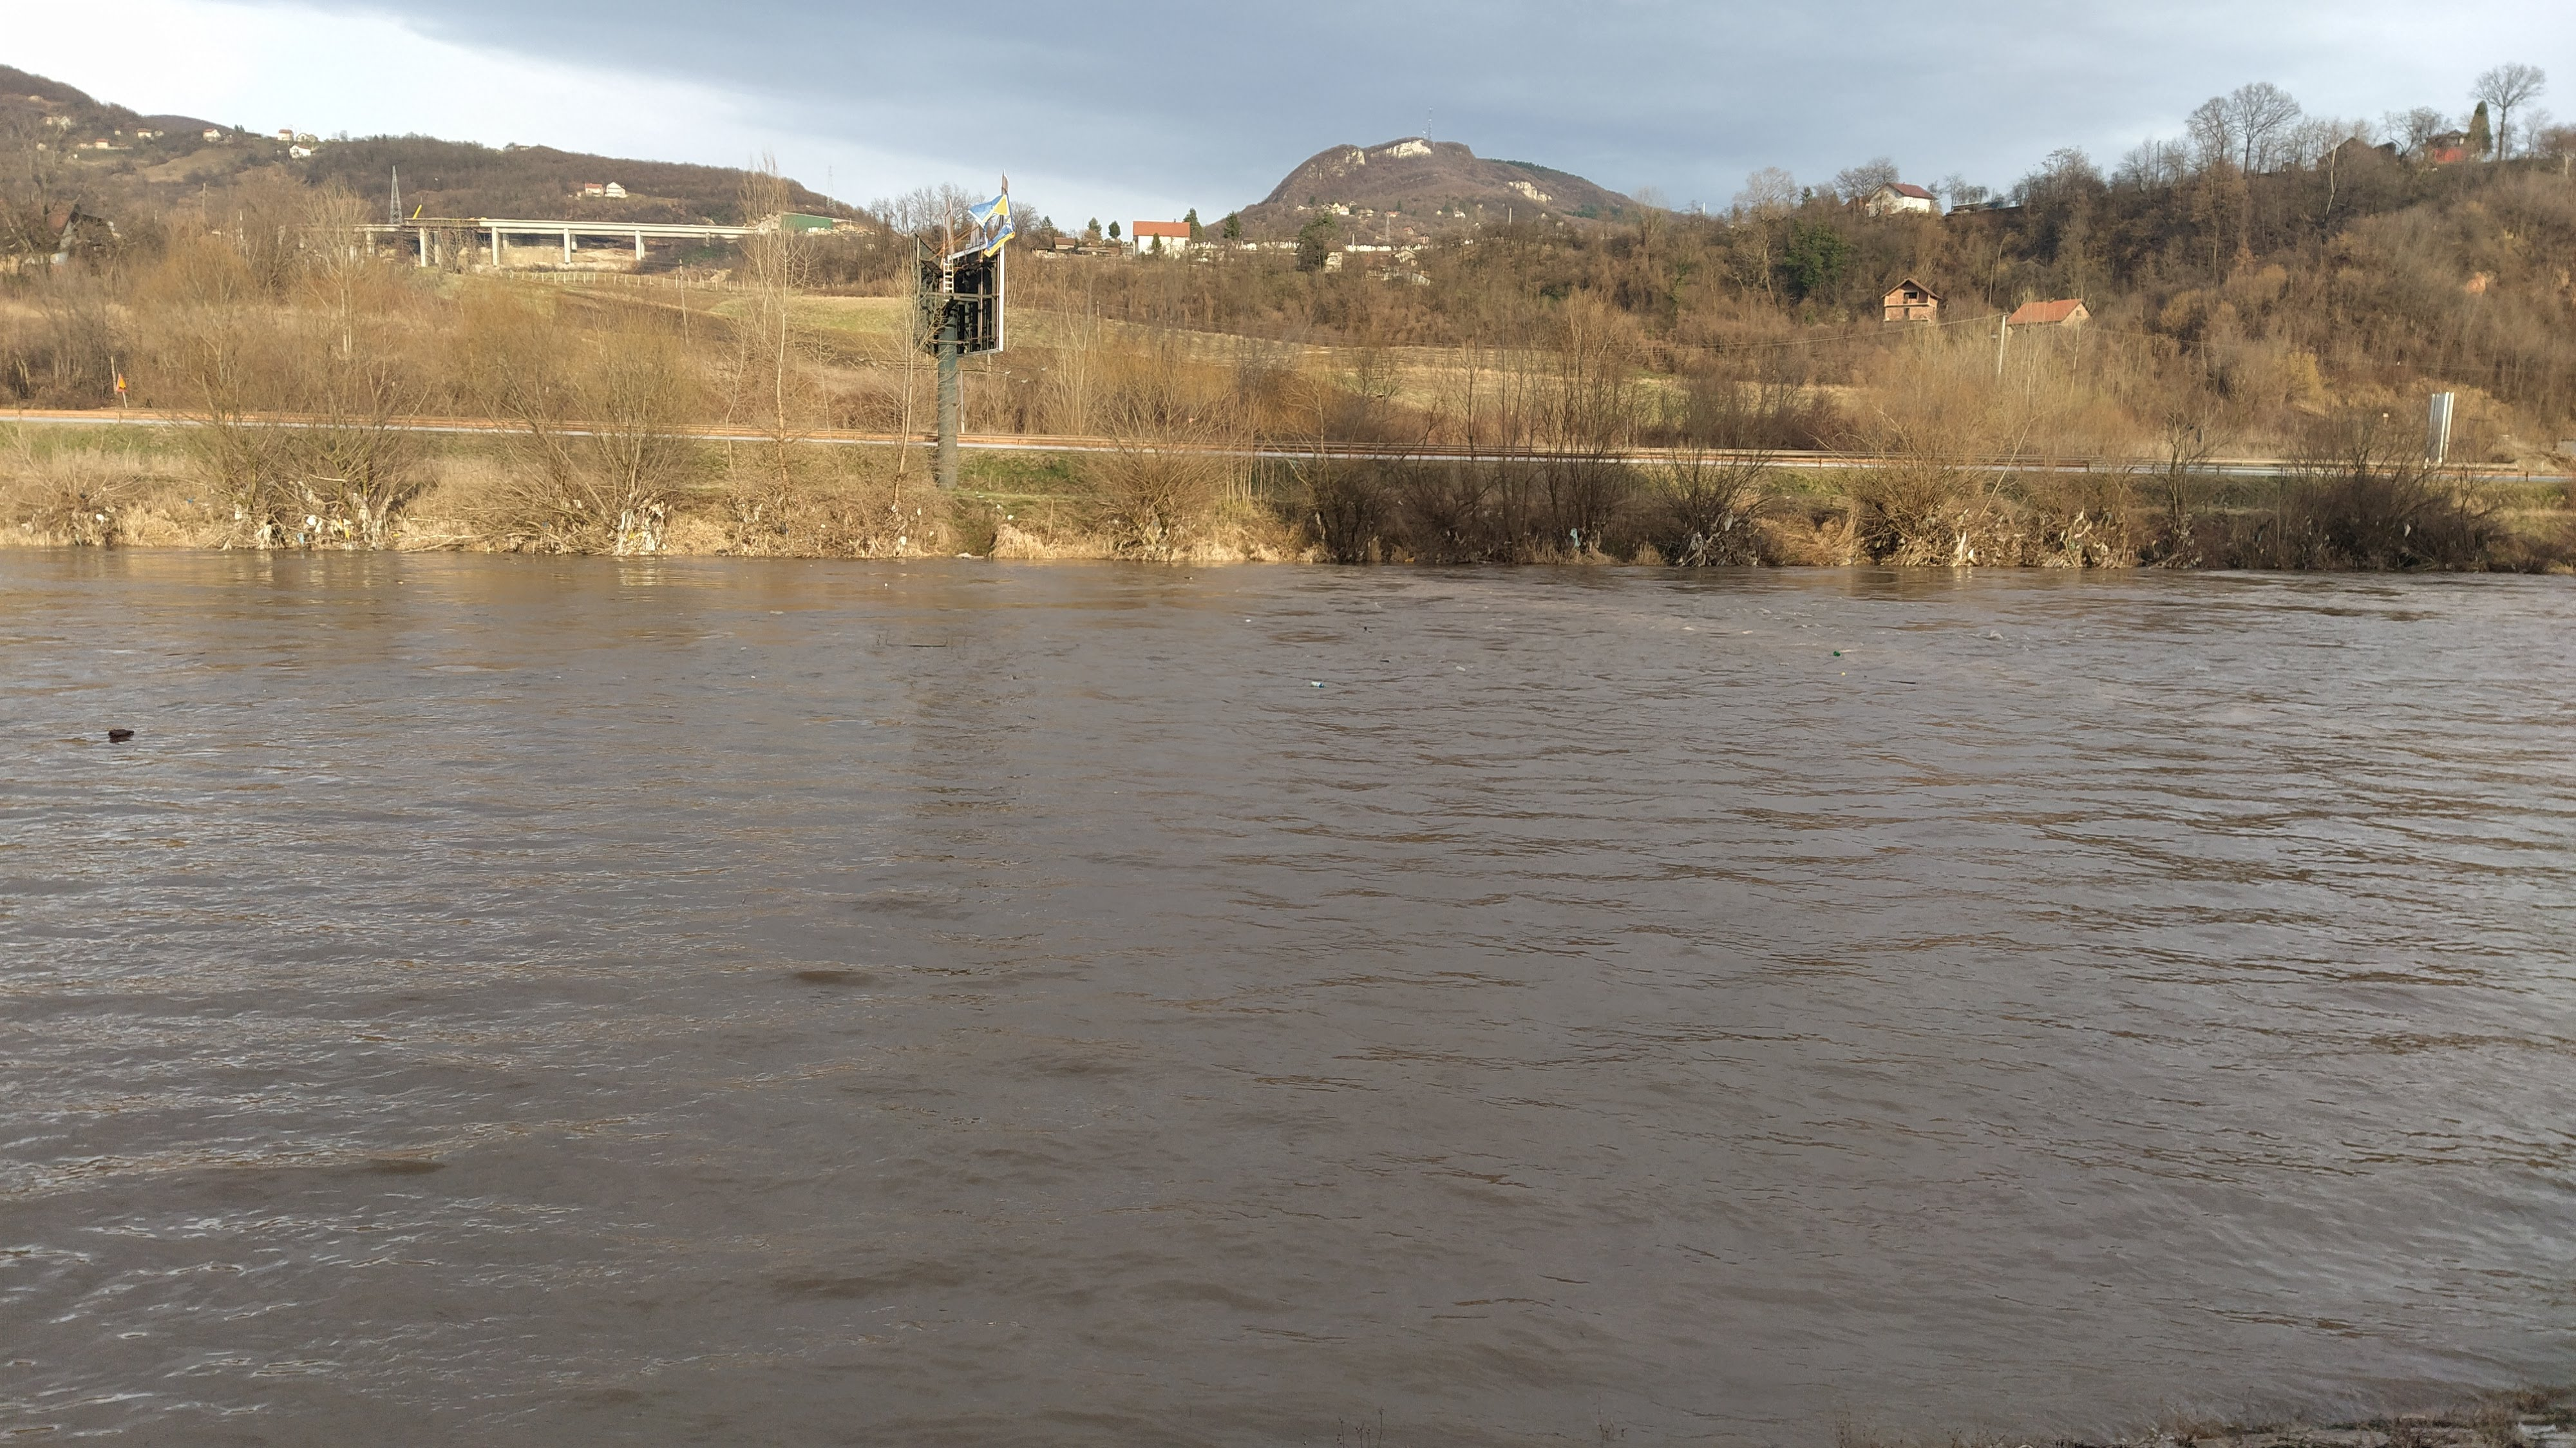Plastic Bottle: (106, 728, 134, 738), (770, 611, 784, 616), (1311, 682, 1323, 687), (2192, 667, 2210, 671), (1458, 666, 1465, 671), (1778, 662, 1789, 666), (1835, 651, 1840, 655)
